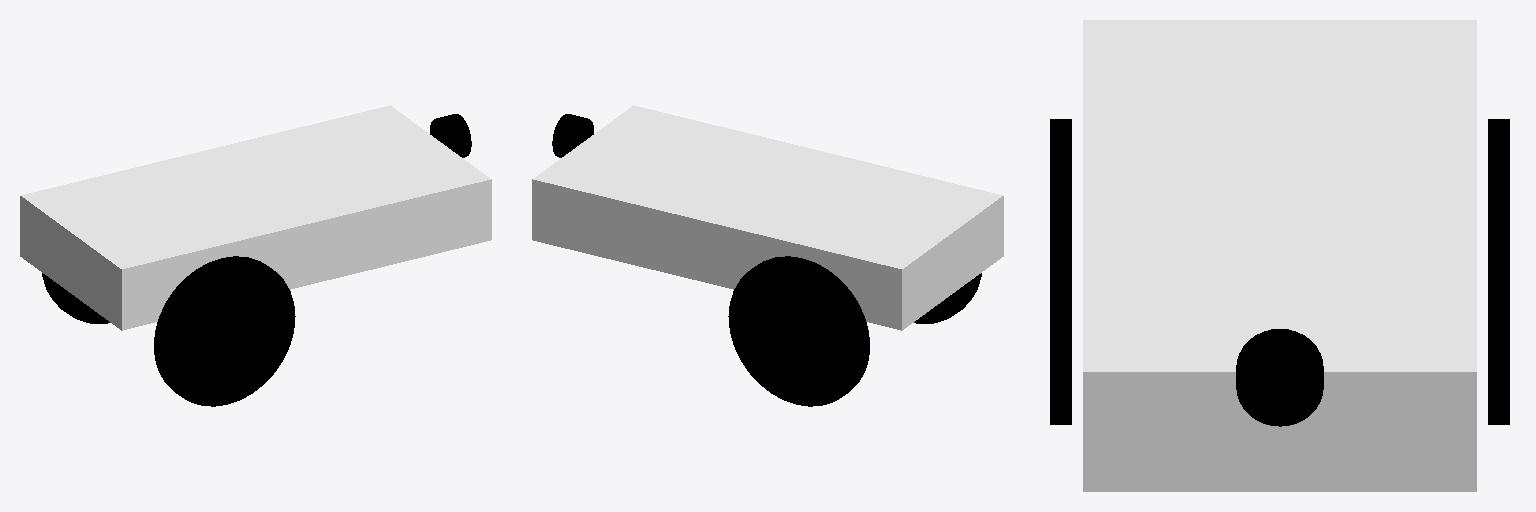
The robot description file, URDF, robot "sandwich":
<?xml version="1.0"?>
<robot name="sandwich">

	<!-- * * * Link Definitions * * * -->
	<link name="base_link">
	</link>

	<link name="batt_link">
		<visual>
			<geometry>
				<box size="0.19 0.09 0.03"/>
			</geometry>
			<origin rpy="0.0 0.0 0.0" xyz="0.0 0.0 0.0"/>
			<material name="white">
				   <color rgba="1.0 1.0 1.0 1.0"/>
			</material>
		</visual>
	</link>

	<link name="right_wheel">
		<visual>
			<geometry>
				<cylinder length="0.005" radius="0.035"/>
			</geometry>
			<origin rpy="1.57 0.0 0.0" xyz="0.0 0.0 0.0"/>
			<material name="black">
				   <color rgba="0.0 0.0 0.0 1.0"/>
			</material>
		</visual> 
	</link>

	<link name="left_wheel">
		<visual>
			<geometry>
				<cylinder length="0.005" radius="0.035"/>
			</geometry>
			<origin rpy="-1.57 0.0 0.0" xyz="0.0 0.0 0.0"/>
			<material name="black">
				   <color rgba="0.0 0.0 0.0 1.0"/>
			</material>
		</visual> 
	</link>

	<link name="camera">
		<visual>
			<geometry>
				<cylinder length="0.01" radius="0.01"/>
			</geometry>
			<origin rpy="0.0 0.0 0.0" xyz="0.0 0.0 0.0"/>
			<material name="black">
			</material>
		</visual> 
	</link>

	<joint name="base_link_to_batt_link" type="fixed">
		<parent link="base_link"/>
		<child link="batt_link"/>
		<origin xyz="0.045 0.0 0.025"/>
	</joint>

	<joint name="base_link_to_right_wheel" type="fixed">
		<parent link="base_link"/>
		<child link="right_wheel"/>
		<origin xyz="0.0 -0.05 0.0"/>
	</joint>

	<joint name="base_link_to_left_wheel" type="fixed">
		<parent link="base_link"/>
		<child link="left_wheel"/>
		<origin xyz="0.0 0.05 0.0"/>
	</joint>

	<joint name="base_link_to_camera" type="fixed">
		<parent link="base_link"/>
		<child link="camera"/>
		<origin xyz="0.145 0.0 0.041" rpy="-1.57 0.0 -1.57" />
	</joint>

</robot>

--- What the picture shows (computed from the rendered views, not written in the file) ---
The picture shows the robot from 3 angles, left to right: view 1: azimuth 30°, elevation 25°; view 2: azimuth 150°, elevation 25°; view 3: azimuth 270°, elevation 25°; orthographic projection.
Robot: sandwich — 5 links, 4 joints (4 fixed); root link base_link; default pose: every joint at zero.
Links seen in each view (by area): view 1: batt_link, right_wheel, camera, left_wheel; view 2: batt_link, left_wheel, camera, right_wheel; view 3: batt_link, camera, right_wheel, left_wheel.
Link boxes in pixels (x1,y1,x2,y2): batt_link: [20, 105, 491, 330]; right_wheel: [154, 256, 295, 406]; camera: [430, 114, 471, 157]; left_wheel: [42, 273, 109, 323]; batt_link: [532, 105, 1003, 330]; left_wheel: [728, 256, 869, 406]; camera: [552, 114, 593, 157]; right_wheel: [914, 273, 981, 323]; batt_link: [1083, 20, 1476, 491]; camera: [1236, 329, 1323, 426]; right_wheel: [1050, 119, 1071, 424]; left_wheel: [1488, 119, 1509, 424].
Bounding box of the posed robot: 0.2 × 0.1051 × 0.086 m (x, y, z).
Geometry: primitives only (box / cylinder / sphere), no mesh files.